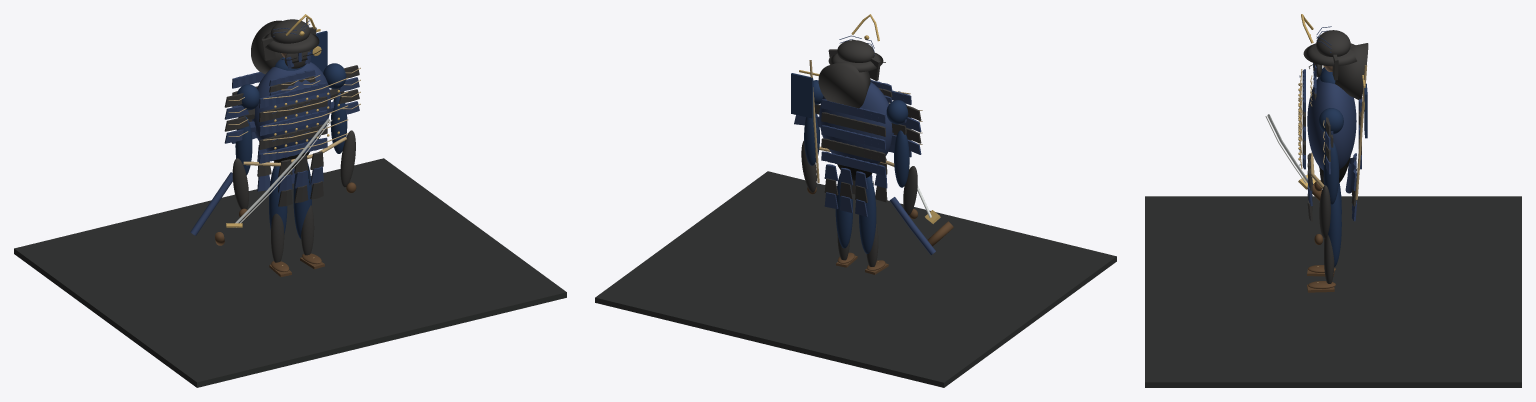
Rendered from actor-uesugi-04.glb.
3 views of the same model, side by side, from view 1: azimuth 30°, elevation 25°; view 2: azimuth 150°, elevation 25°; view 3: azimuth 270°, elevation 25° (orthographic). The views are drawn at different scales.
Visible parts, largest first — view 1: matte charcoal inspection plinth, rounded do cuirass silhouette, rear shikoro neck guard flare, segmented kabuto helmet bowl, right armored upper arm, right kote forearm guard, left kote forearm guard, wide kabuto brim, left hakama trouser leg, right hakama trouser leg, left armored upper arm, left shin greave (+2 smaller); view 2: matte charcoal inspection plinth, rear shikoro neck guard flare, rounded do cuirass silhouette, cloth sashimono banner panel, left hakama trouser leg, left armored upper arm, segmented kabuto helmet bowl, right hakama trouser leg, right armored upper arm, left kote forearm guard, lacquered saya scabbard at left hip, right kote forearm guard; view 3: matte charcoal inspection plinth, rounded do cuirass silhouette, rear shikoro neck guard flare, segmented kabuto helmet bowl, right hakama trouser leg, wide kabuto brim, right armored upper arm, right kote forearm guard, right shoulder undercloth, right shin greave, bamboo sashimono back pole.
Part boxes in pixels (box(x1,y1,x2,y2)): matte charcoal inspection plinth: box(14, 158, 566, 387); rounded do cuirass silhouette: box(252, 62, 330, 151); rear shikoro neck guard flare: box(251, 20, 283, 74); segmented kabuto helmet bowl: box(270, 19, 310, 43); right armored upper arm: box(330, 93, 347, 153); right kote forearm guard: box(340, 130, 355, 187); left kote forearm guard: box(232, 158, 248, 209); wide kabuto brim: box(261, 33, 319, 53); left hakama trouser leg: box(269, 166, 287, 234); right hakama trouser leg: box(293, 163, 311, 239); left armored upper arm: box(235, 116, 252, 175); left shin greave: box(271, 213, 284, 262); matte charcoal inspection plinth: box(595, 171, 1116, 387); rear shikoro neck guard flare: box(818, 61, 870, 108); rounded do cuirass silhouette: box(819, 82, 893, 164); cloth sashimono banner panel: box(791, 73, 813, 118); left hakama trouser leg: box(859, 176, 876, 253); left armored upper arm: box(894, 130, 909, 187); segmented kabuto helmet bowl: box(837, 40, 874, 62); right hakama trouser leg: box(835, 173, 852, 248); right armored upper arm: box(804, 113, 819, 165); left kote forearm guard: box(903, 166, 917, 215); lacquered saya scabbard at left hip: box(889, 197, 935, 254); right kote forearm guard: box(801, 140, 816, 192); matte charcoal inspection plinth: box(1145, 196, 1521, 387); rounded do cuirass silhouette: box(1307, 76, 1356, 170); rear shikoro neck guard flare: box(1335, 43, 1368, 99); segmented kabuto helmet bowl: box(1316, 30, 1350, 56); right hakama trouser leg: box(1328, 189, 1341, 267); wide kabuto brim: box(1303, 43, 1356, 66); right armored upper arm: box(1323, 142, 1339, 204); right kote forearm guard: box(1319, 185, 1330, 238); right shoulder undercloth: box(1319, 108, 1343, 134); right shin greave: box(1324, 235, 1334, 283); bamboo sashimono back pole: box(1355, 65, 1366, 199).
Bounding box in the file's own units: 4.2 × 2.96 × 3.6.
